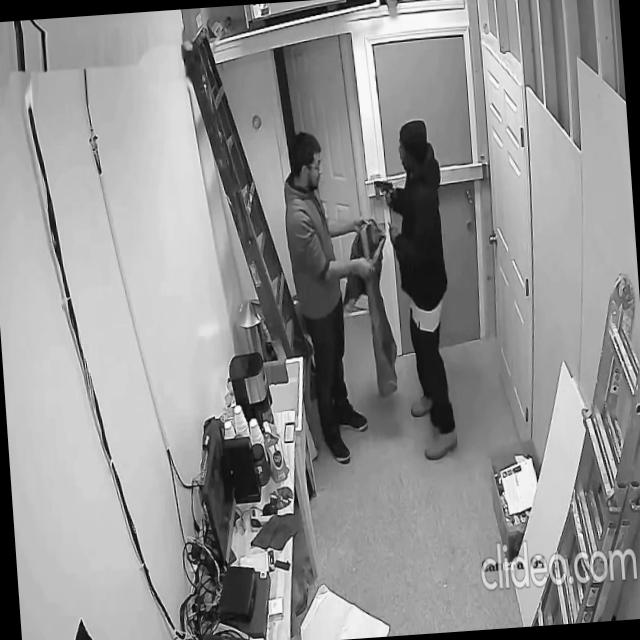gun: (372, 177, 394, 206)
person: (278, 126, 389, 468)
person with a gun: (370, 118, 459, 466)
